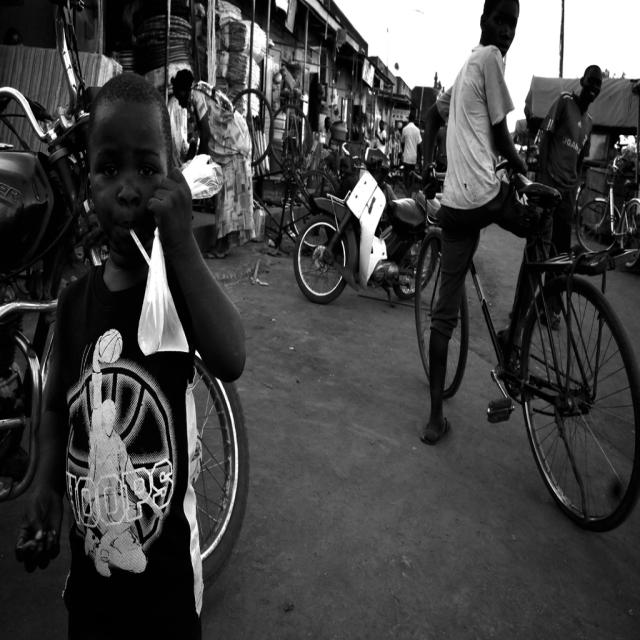Motorbikes: (291, 168, 438, 313)
